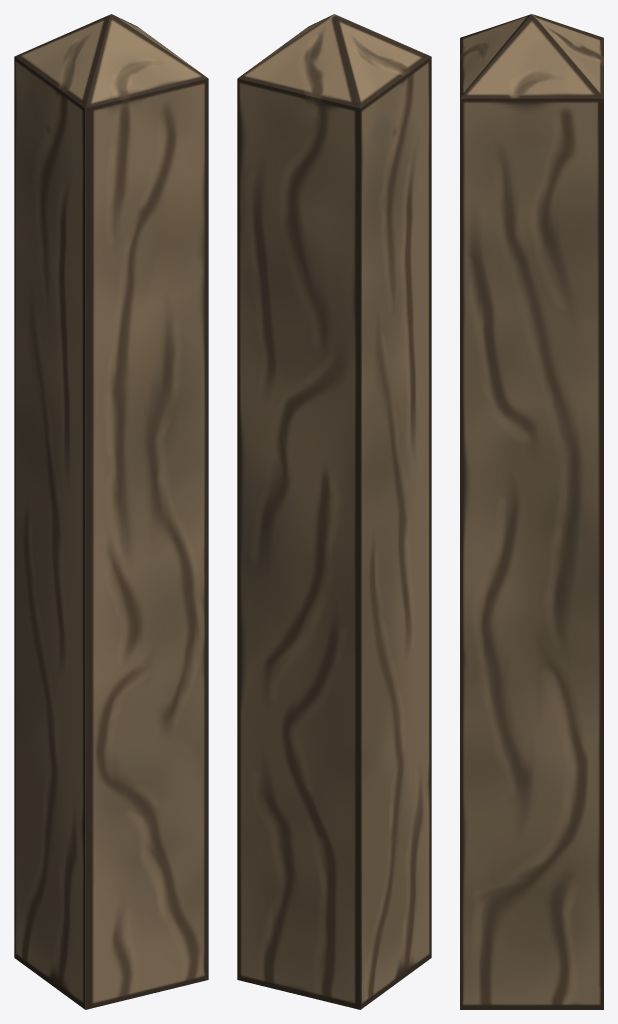
The model's file is poteauBarriere.fbx.
The picture shows the model from 3 angles, left to right: view 1: azimuth 30°, elevation 25°; view 2: azimuth 150°, elevation 25°; view 3: azimuth 270°, elevation 25°; orthographic projection.
Parts seen in each view (by area): view 1: Cube; view 2: Cube; view 3: Cube.
Boxes of the visible parts, x1,y1,x2,y2 form: Cube: (14, 14, 208, 1009); Cube: (237, 14, 431, 1009); Cube: (460, 14, 603, 1009).
Size of the model in its own units: 200 by 1483 by 200.
1 material, 1 textured.
